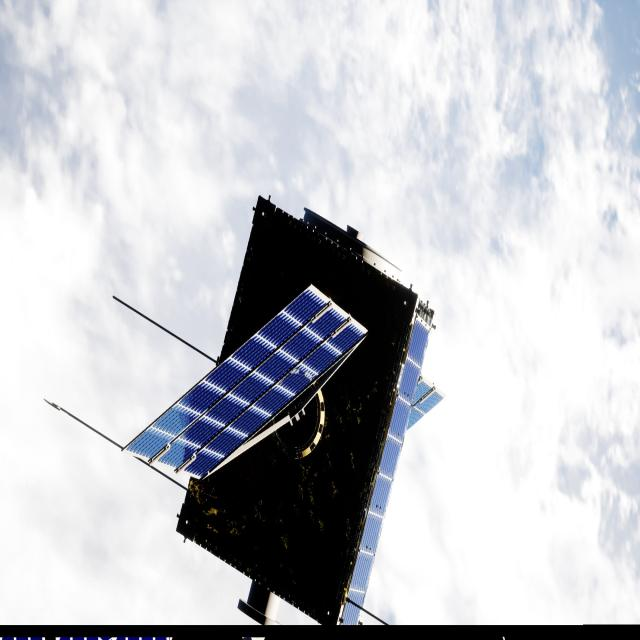medium_debris: (121, 198, 438, 628)
